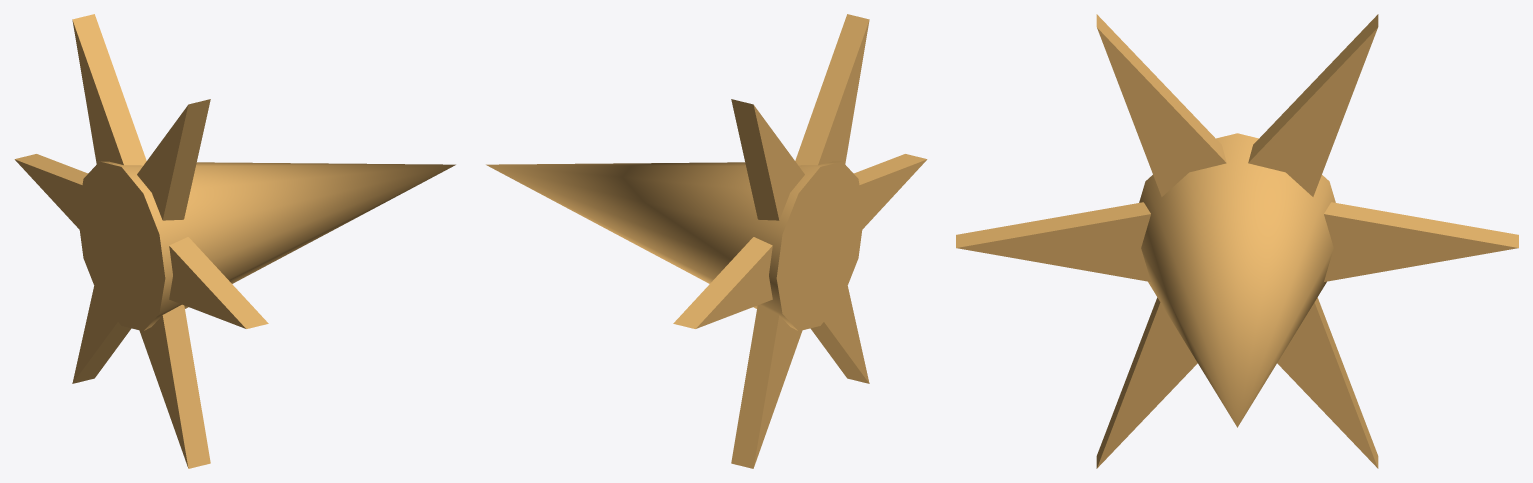
Rendered from clarao.obj.
3 renders of one model, left to right at view 1: azimuth 30°, elevation 25°; view 2: azimuth 150°, elevation 25°; view 3: azimuth 270°, elevation 25°, orthographic. The views are drawn at different scales.
Bounding box in the file's own units: 0.06 × 0.0624 × 0.072.
